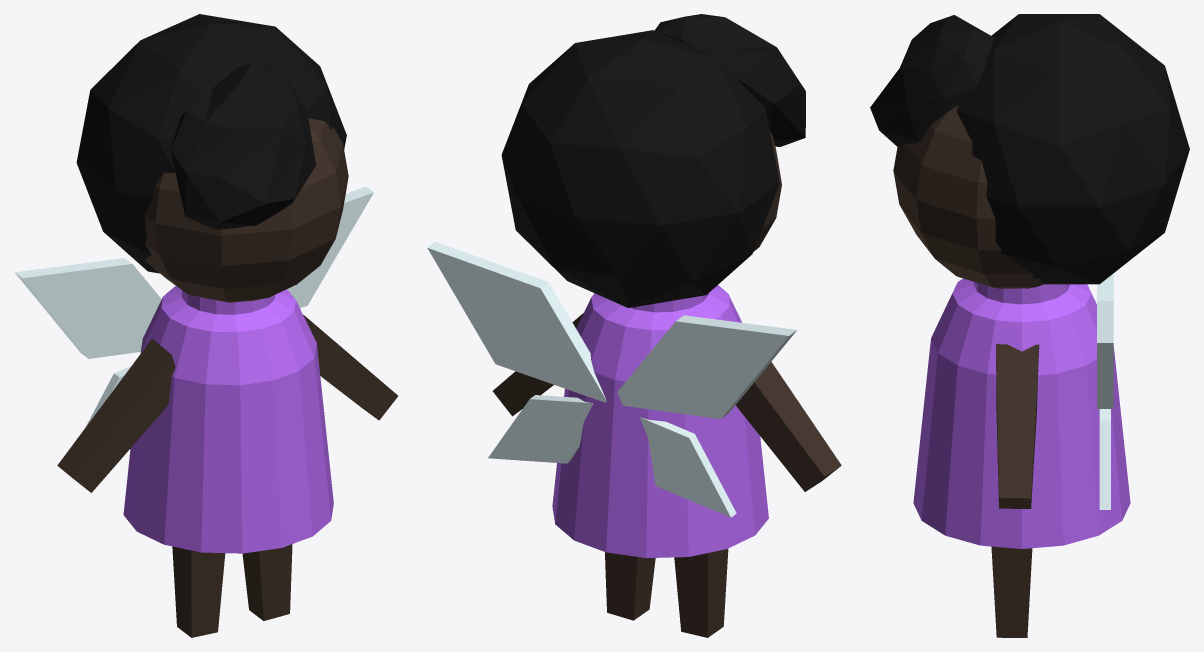
The model's file is PURPLENymph.fbx.
3 views of the same model, side by side, from view 1: azimuth 30°, elevation 25°; view 2: azimuth 150°, elevation 25°; view 3: azimuth 270°, elevation 25° (orthographic). The views are drawn at different scales.
Visible parts, largest first — view 1: Body, Hair, Hair.001, Head, Wing2, Arm, Leg, Armm, Leg.001, Wing1; view 2: Hair, Body, Wing1, Wing2, Hair.001, Arm, Wingg1, Wingg2, Leg, Leg.001, Armm, Head; view 3: Hair, Body, Head, Hair.001, Armm, Leg.001, Wing1, Wingg1.
Boxes of the visible parts, x1,y1,x2,y2 form: Body: (123, 286, 333, 553); Hair: (76, 14, 346, 273); Hair.001: (170, 62, 315, 229); Head: (144, 118, 348, 302); Wing2: (15, 258, 161, 358); Arm: (57, 339, 175, 492); Leg: (172, 546, 225, 637); Armm: (303, 315, 397, 420); Leg.001: (242, 544, 292, 620); Wing1: (287, 186, 373, 308); Hair: (501, 30, 779, 307); Body: (552, 285, 768, 558); Wing1: (427, 241, 606, 402); Wing2: (617, 315, 796, 419); Hair.001: (655, 14, 805, 146); Arm: (735, 362, 841, 491); Wingg1: (488, 395, 593, 463); Wingg2: (639, 417, 736, 517); Leg: (674, 549, 728, 637); Leg.001: (605, 552, 655, 620); Armm: (492, 313, 583, 416); Head: (753, 131, 781, 251); Hair: (956, 14, 1189, 284); Body: (913, 278, 1130, 548); Head: (893, 105, 1043, 288); Hair.001: (870, 15, 994, 147); Armm: (996, 344, 1039, 508); Leg.001: (991, 546, 1032, 637); Wing1: (1097, 301, 1113, 408); Wingg1: (1099, 409, 1110, 509).
Bounding box in the file's own units: 313 × 495 × 241.
